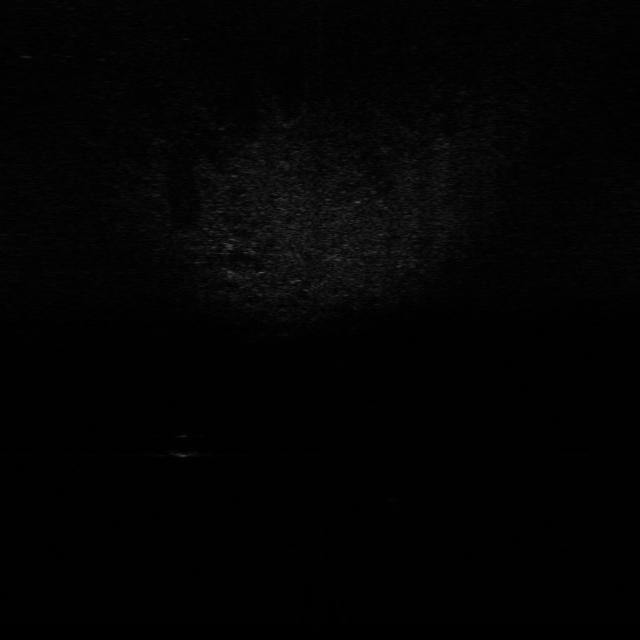ball: (169, 428, 207, 461)
